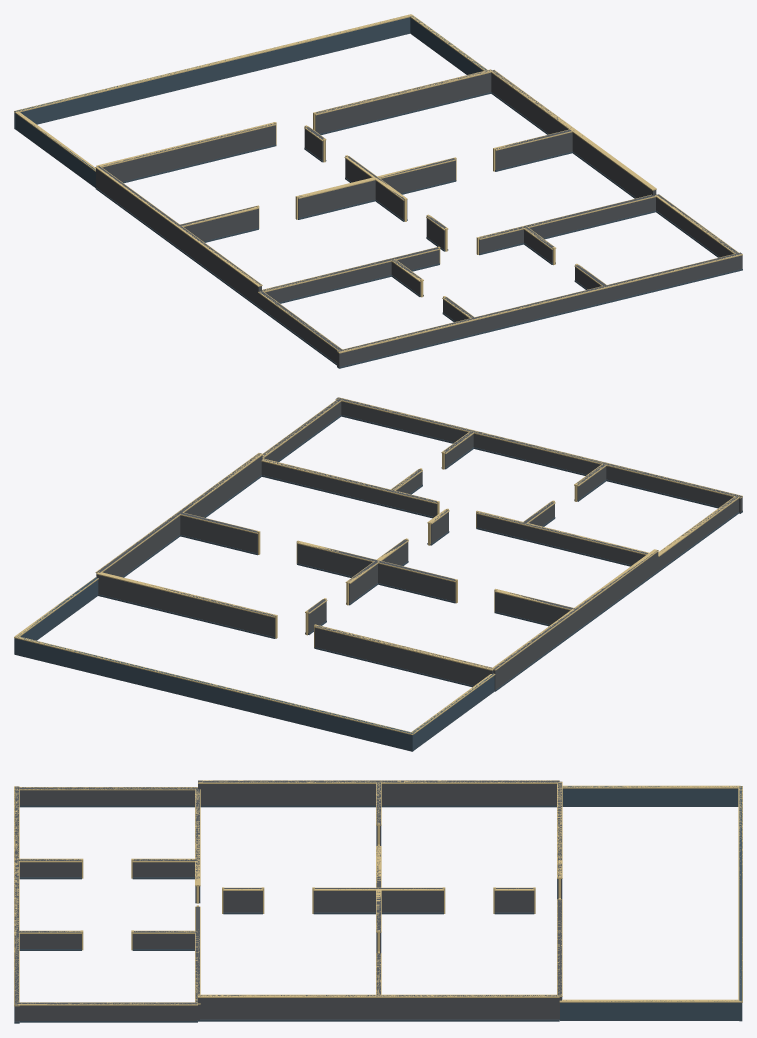
File: bb_shell_house.fbx
3 views of the same model, one above another, from view 1: azimuth 30°, elevation 25°; view 2: azimuth 150°, elevation 25°; view 3: azimuth 270°, elevation 25° (orthographic). The views are drawn at different scales.
Parts seen in each view (by area): view 1: bb_shell_house; view 2: bb_shell_house; view 3: bb_shell_house.
Boxes of the visible parts, <box> form: bb_shell_house: <box>14,14,742,368</box>; bb_shell_house: <box>14,397,742,751</box>; bb_shell_house: <box>14,780,742,1023</box>.
Size of the model in its own units: 28.65 by 1.55 by 40.28.
